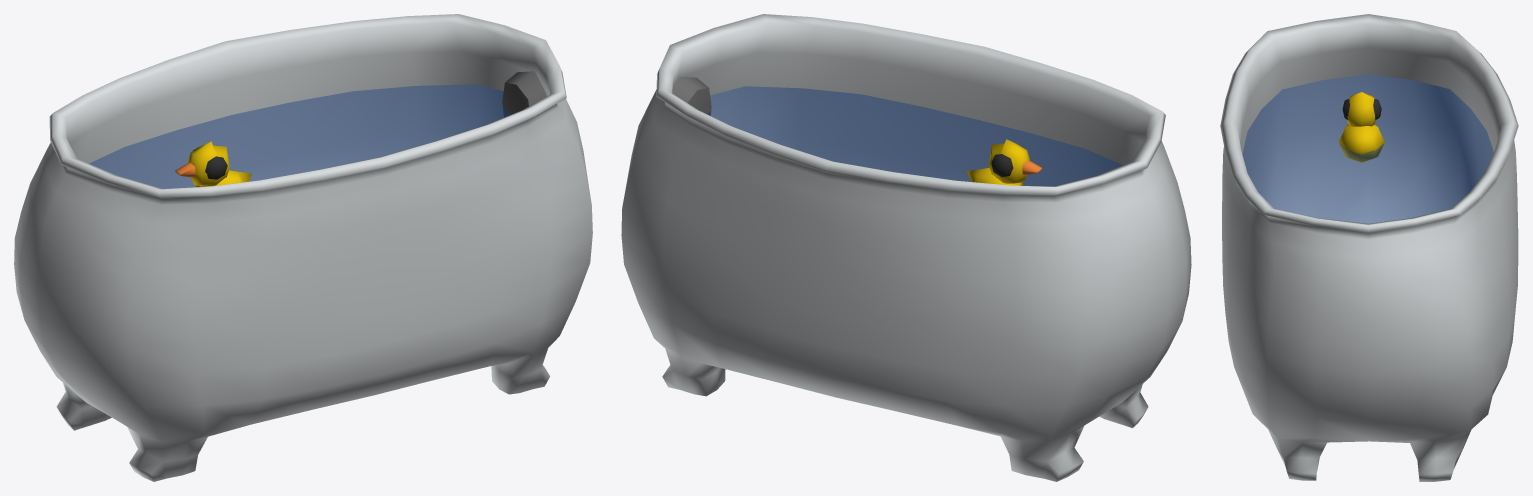
Rendered from props_bath.fbx.
3 views of the same model, side by side, from view 1: azimuth 30°, elevation 25°; view 2: azimuth 150°, elevation 25°; view 3: azimuth 270°, elevation 25° (orthographic). The views are drawn at different scales.
Parts seen in each view (by area): view 1: props_bath; view 2: props_bath; view 3: props_bath.
Part boxes in pixels (x1=…): props_bath: x1=14, y1=14, x2=592, y2=481; props_bath: x1=621, y1=14, x2=1191, y2=481; props_bath: x1=1220, y1=14, x2=1518, y2=481.
Size of the model in its own units: 286 by 157 by 154.
